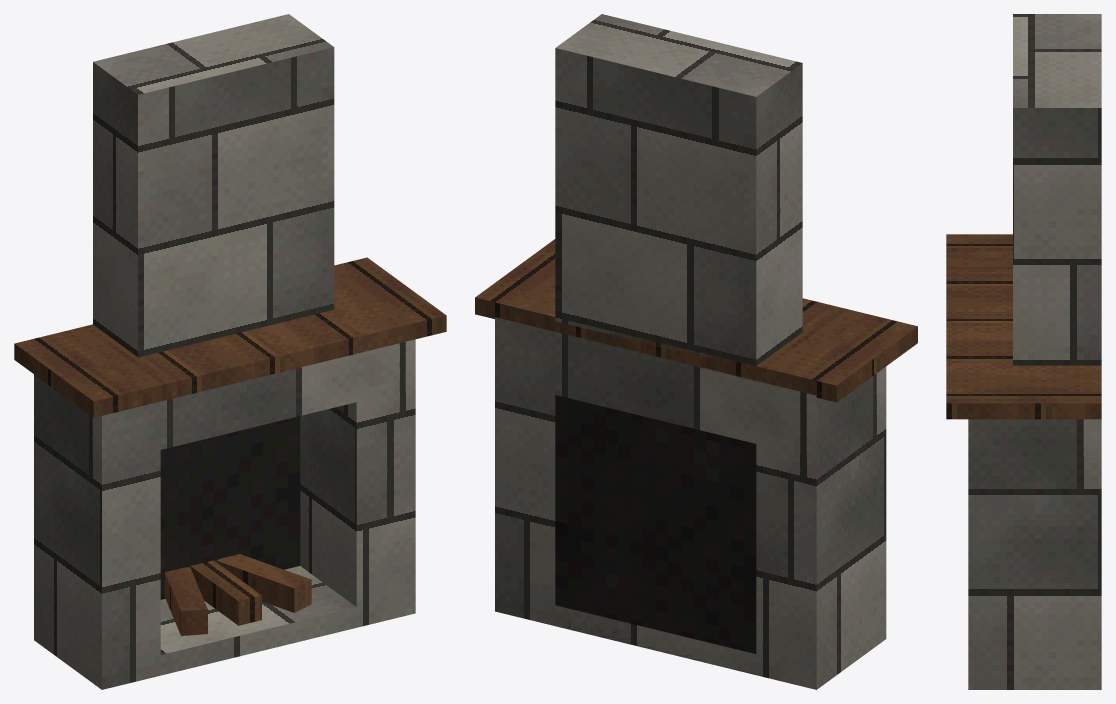
The model's file is chimenea.obj.
3 renders of one model, left to right at view 1: azimuth 30°, elevation 25°; view 2: azimuth 150°, elevation 25°; view 3: azimuth 270°, elevation 25°, orthographic. The views are drawn at different scales.
Parts seen in each view (by area): view 1: chimenea; view 2: chimenea; view 3: chimenea.
Boxes of the visible parts, x1,y1,x2,y2 form: chimenea: (14, 14, 446, 689); chimenea: (475, 14, 917, 689); chimenea: (946, 14, 1101, 689).
Size of the model in its own units: 1.8 by 2.75 by 0.7.
Materials: 3 (3 with a texture image).
